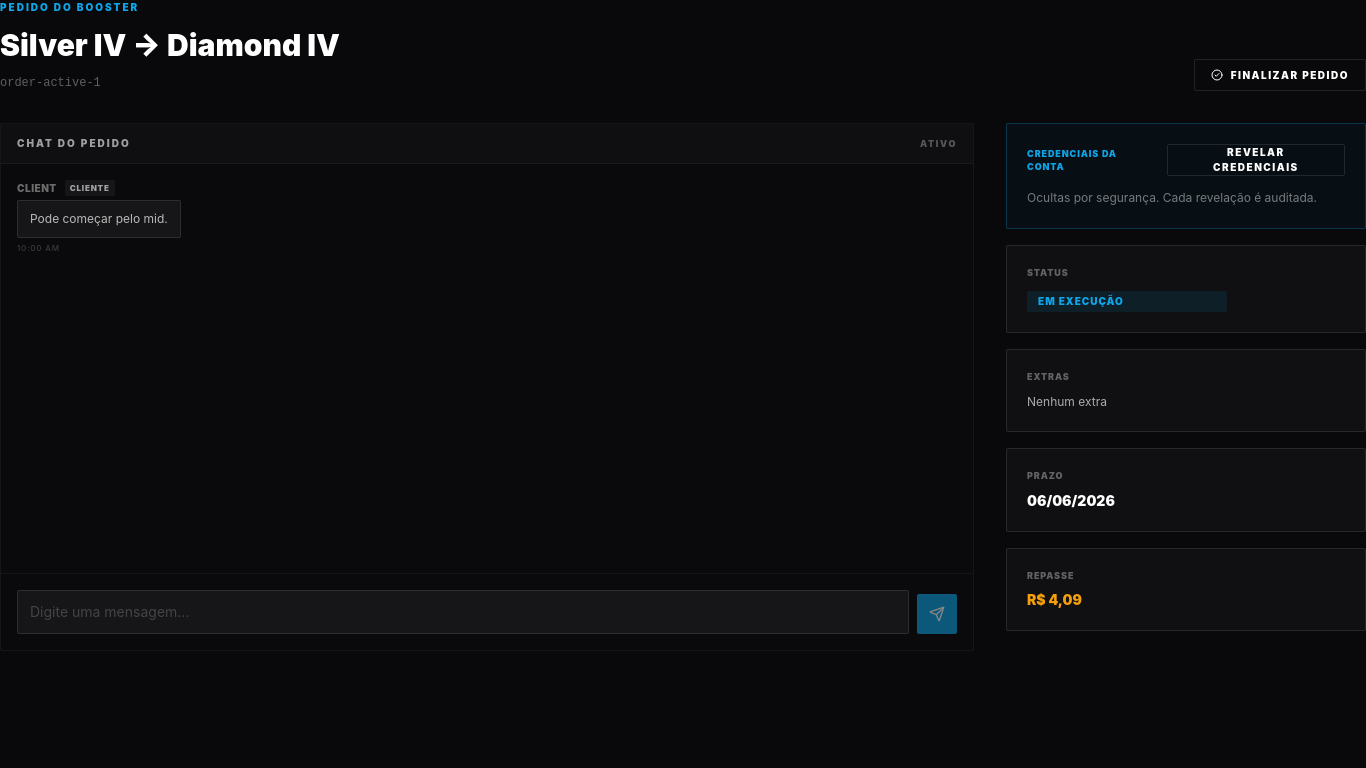
Test: BoosterOrderDetailsPage › renders the order chat as the primary detail surface
The width and height of the screenshot is (1366, 768).
expect the heading "Silver IV → Diamond IV" is shown: met, box [0, 27, 340, 63]
expect the heading "Chat do pedido" is shown: met, box [17, 136, 131, 151]
Click the button "Finalizar pedido" at coordinates (1280, 75), box [1194, 59, 1365, 91]
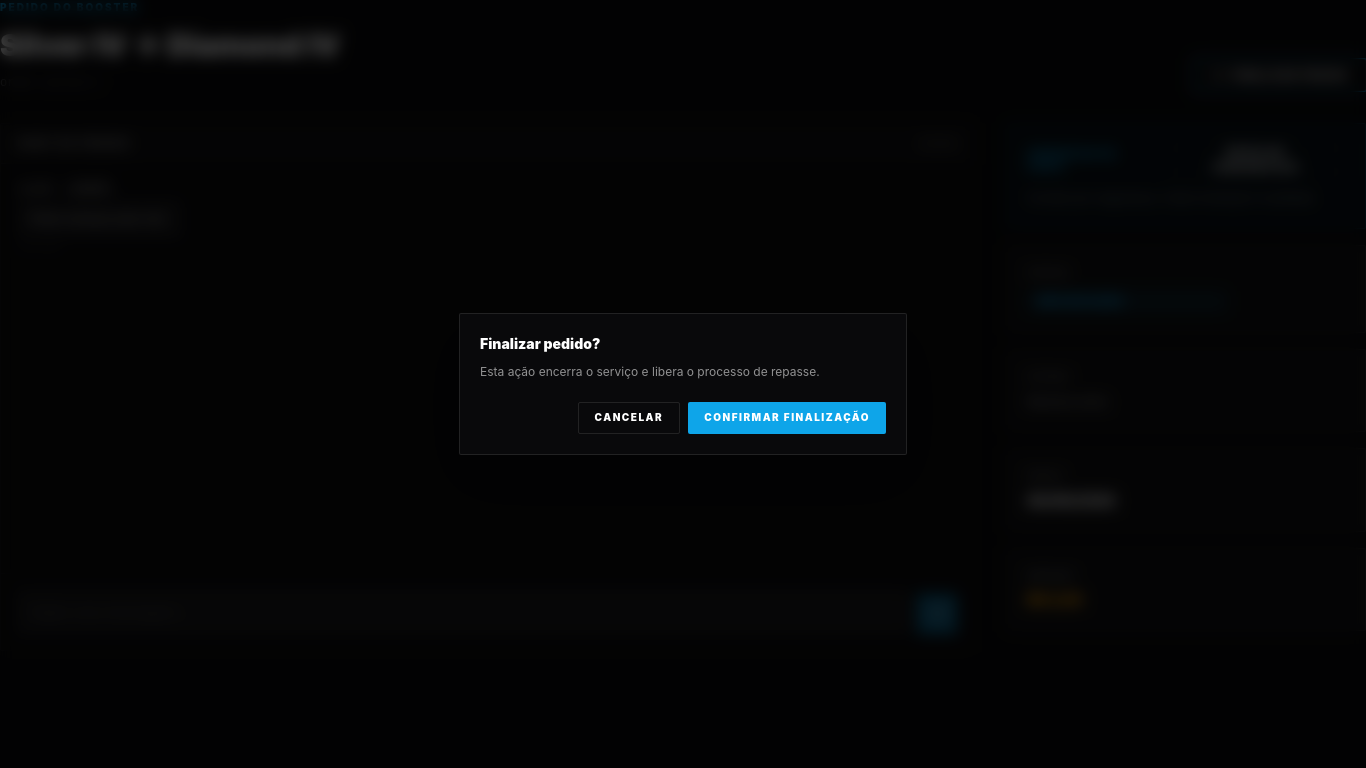
expect the heading "Finalizar pedido?" is shown: met, box [480, 335, 600, 352]
expect the button "Confirmar finalização" is shown: met, box [688, 402, 886, 434]
